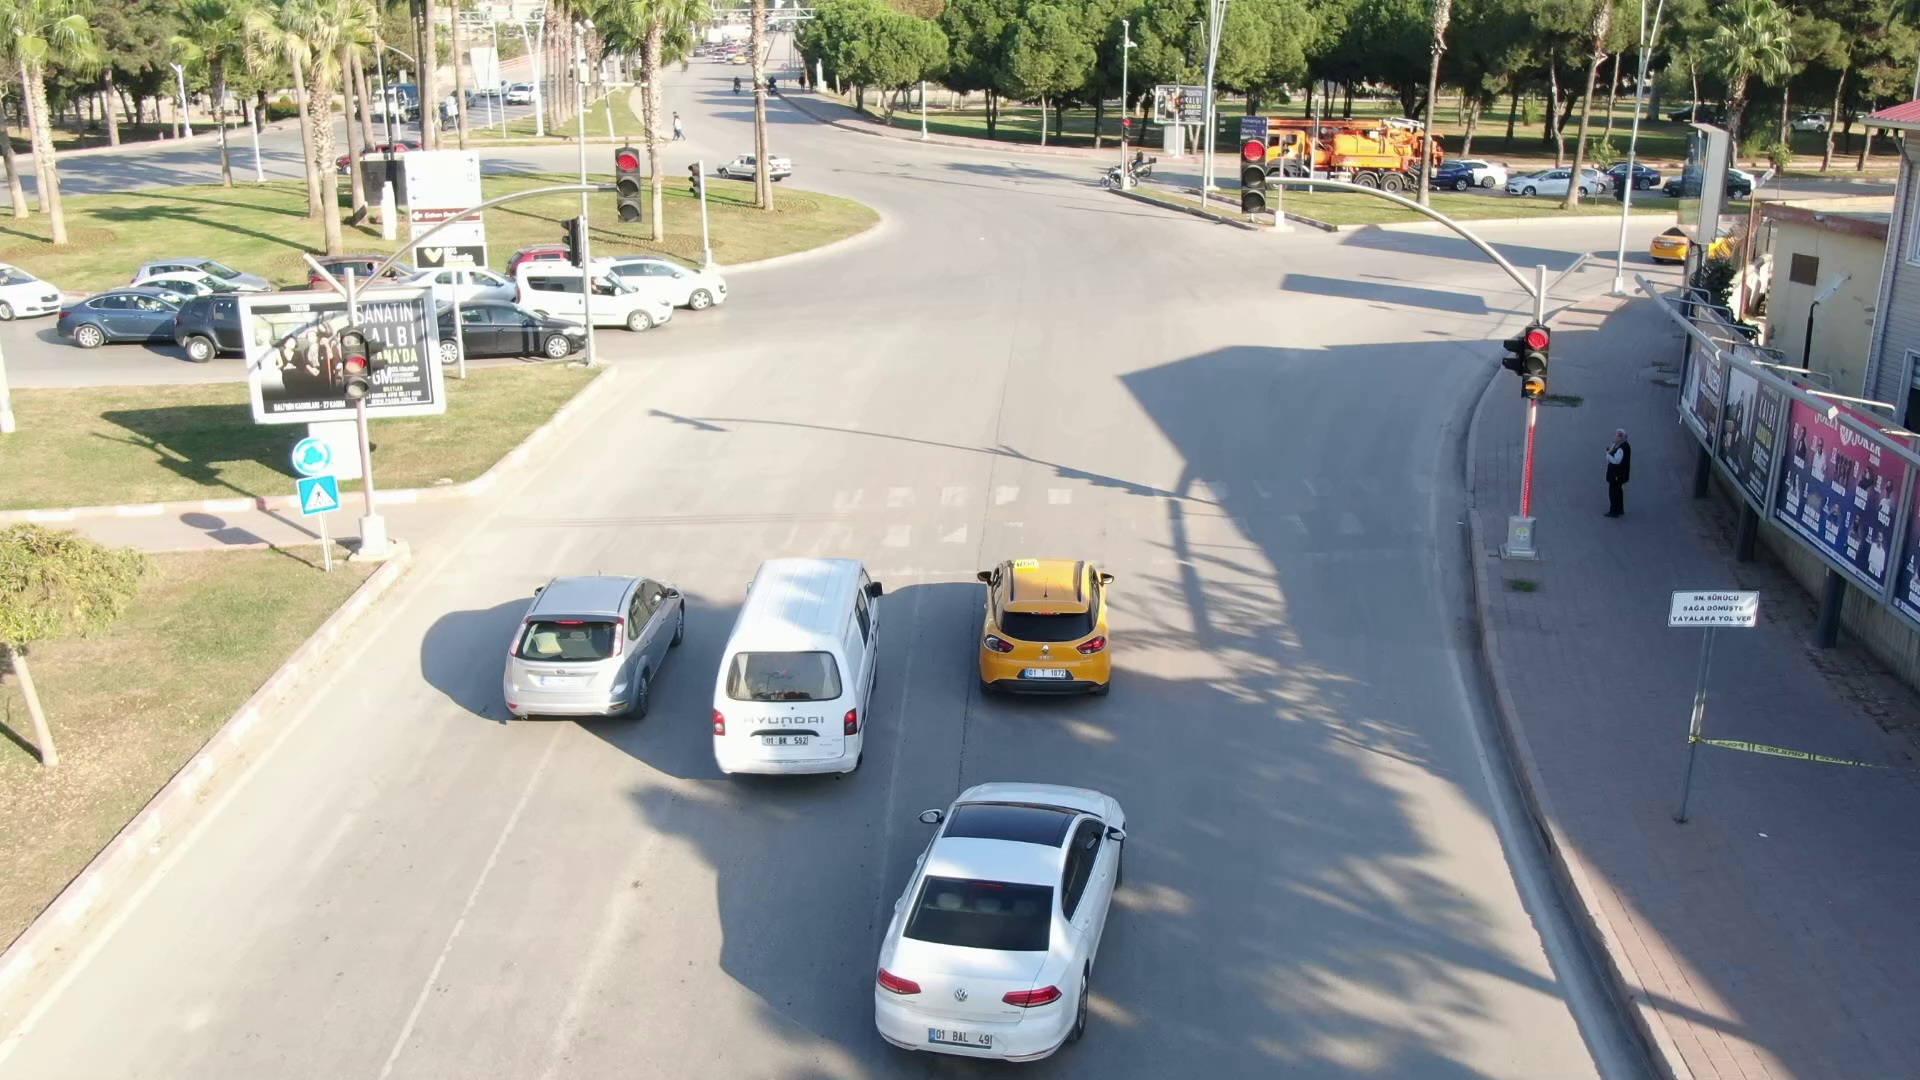car: (861, 770, 1147, 1070), (706, 551, 912, 796), (490, 568, 692, 733), (976, 555, 1115, 706), (517, 253, 674, 333), (445, 294, 602, 361), (592, 249, 743, 304), (721, 153, 798, 180)
person: (1600, 425, 1645, 523)
